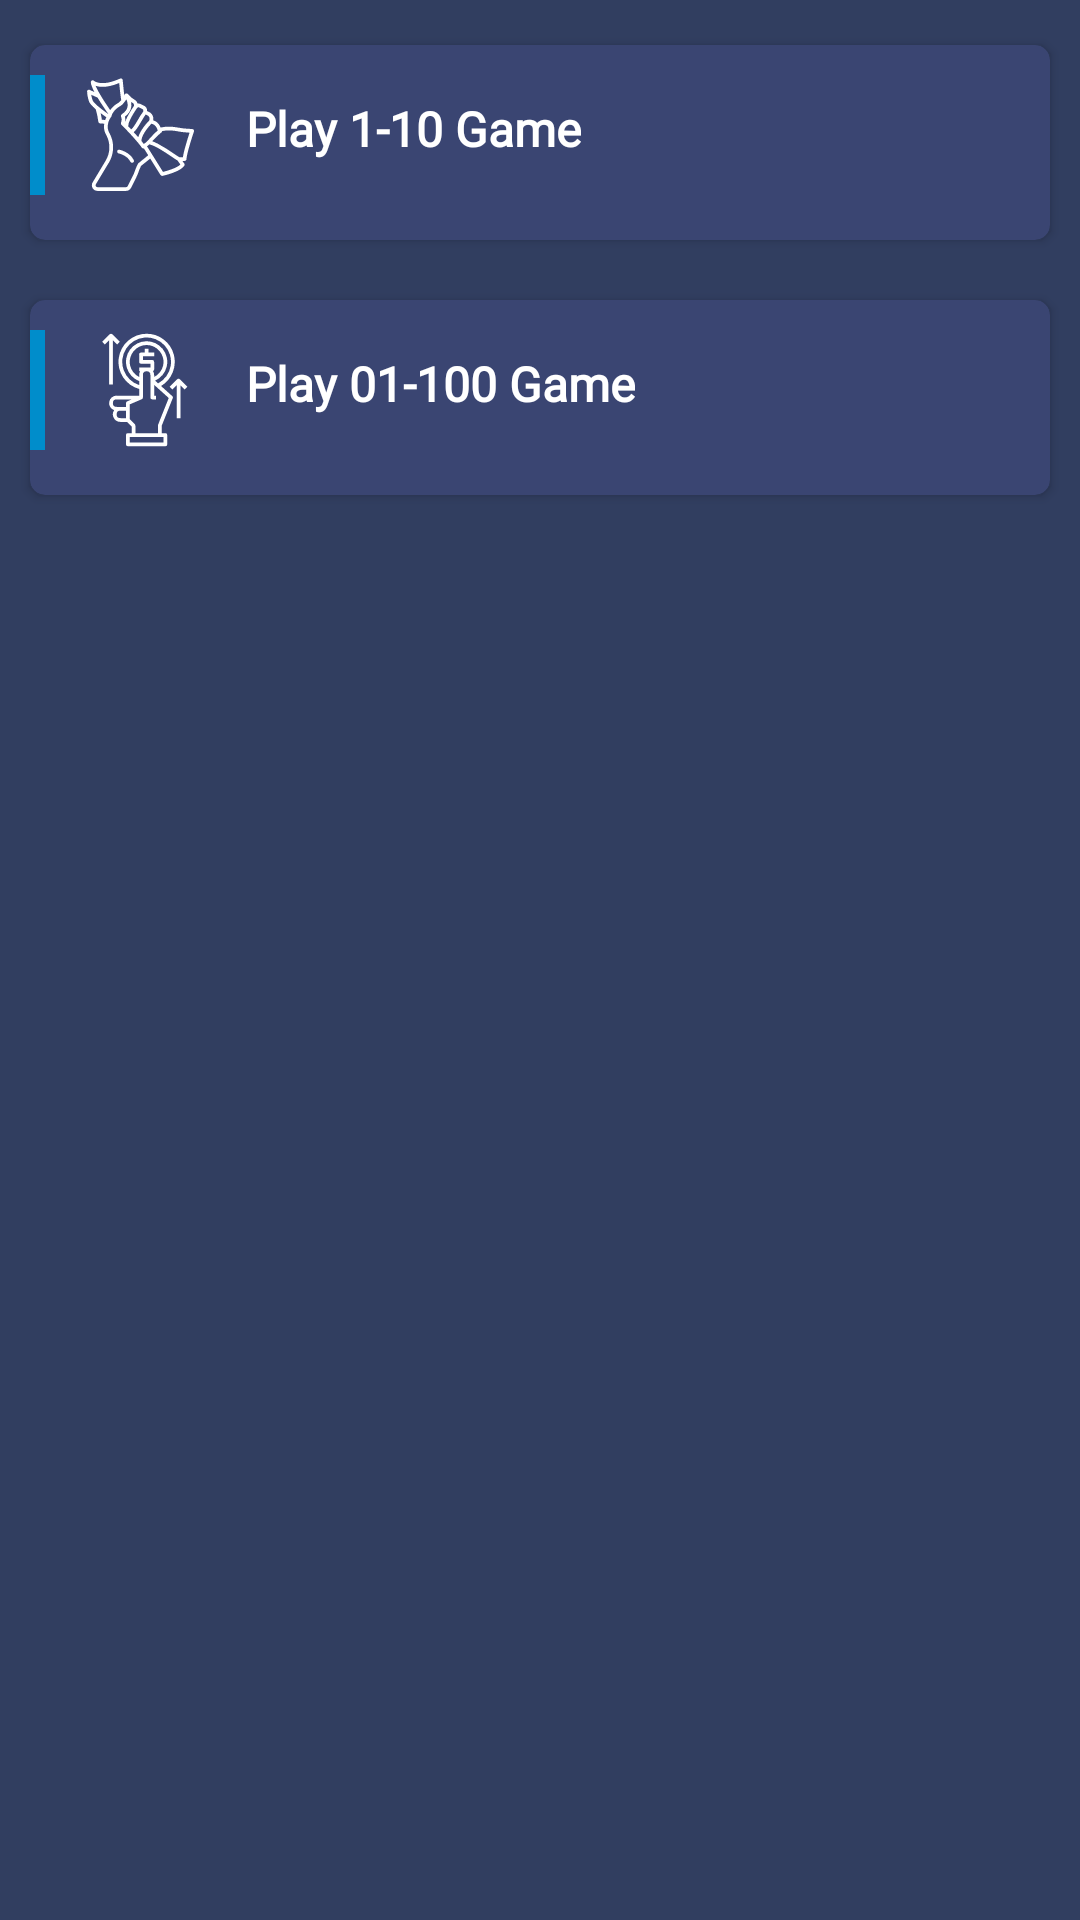

Where to tap for icons on this 1080x1920 app screen, as [x,y]:
betting: [140,134], [145,390]
